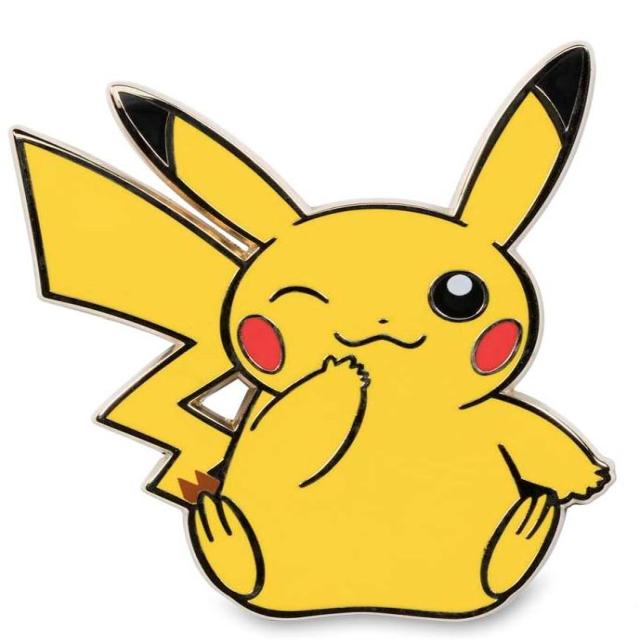pikachu: (14, 44, 611, 620)
